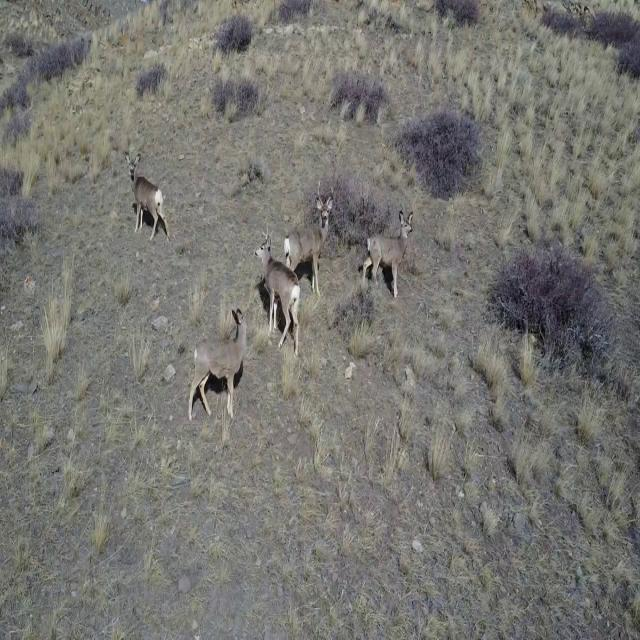Deer: (187, 308, 247, 423), (254, 223, 304, 357), (283, 181, 333, 297), (362, 207, 414, 303), (125, 149, 169, 240)
